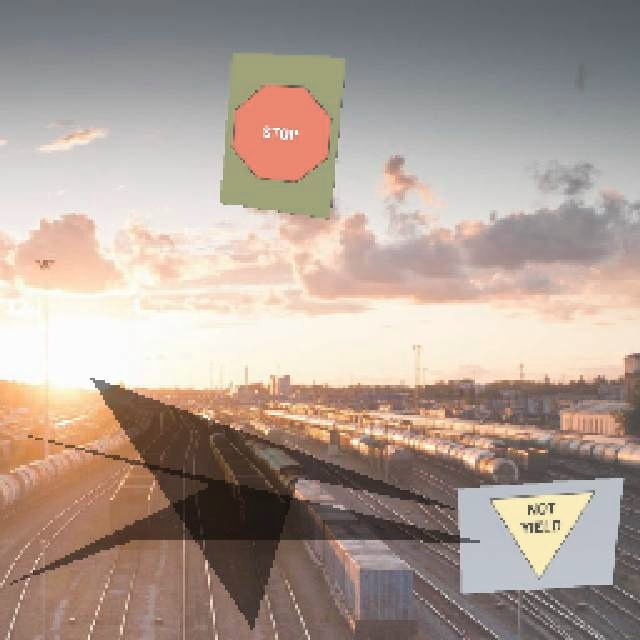NOT_YIELD: (488, 490, 594, 582)
STOP: (228, 81, 334, 185)
